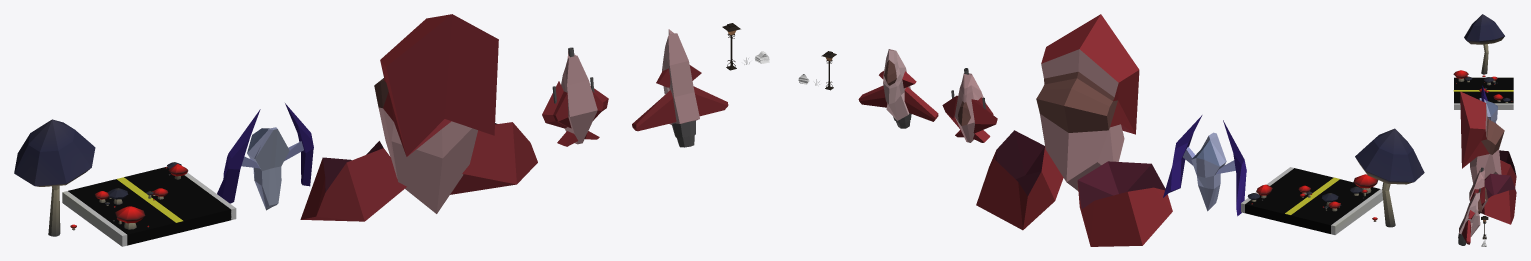
The model's file is GameAssetsDudu.fbx.
The picture shows the model from 3 angles, left to right: view 1: azimuth 30°, elevation 25°; view 2: azimuth 150°, elevation 25°; view 3: azimuth 270°, elevation 25°; orthographic projection. The views are drawn at different scales.
Visible parts, largest first — view 1: AirshipRatBase, Mushroom, AirshipProtaBase, CapMushroomBig, EnemyQuickBase, EnemySimpleBase; view 2: AirshipRatBase, Mushroom, AirshipProtaBase, CapMushroomBig, EnemyQuickBase, EnemySimpleBase; view 3: AirshipRatBase, Mushroom, CapMushroomBig, EnemyQuickBase, EnemySimpleBase, AirshipProtaBase, LampBase.
Boxes of the visible parts, x1,y1,x2,y2 form: AirshipRatBase: (300, 14, 537, 221); Mushroom: (62, 162, 236, 246); AirshipProtaBase: (217, 103, 313, 210); CapMushroomBig: (14, 119, 95, 236); EnemyQuickBase: (632, 29, 728, 147); EnemySimpleBase: (542, 47, 608, 146); AirshipRatBase: (976, 14, 1172, 246); Mushroom: (1241, 167, 1382, 234); AirshipProtaBase: (1163, 115, 1246, 216); CapMushroomBig: (1355, 128, 1424, 227); EnemyQuickBase: (858, 49, 938, 128); EnemySimpleBase: (942, 68, 997, 142); AirshipRatBase: (1460, 91, 1516, 224); Mushroom: (1453, 70, 1513, 109); CapMushroomBig: (1464, 14, 1504, 74); EnemyQuickBase: (1458, 192, 1482, 245); EnemySimpleBase: (1469, 167, 1487, 209); AirshipProtaBase: (1479, 85, 1497, 122); LampBase: (1481, 216, 1488, 239).
Bounding box in the file's own units: 7383 × 2186 × 1080.
